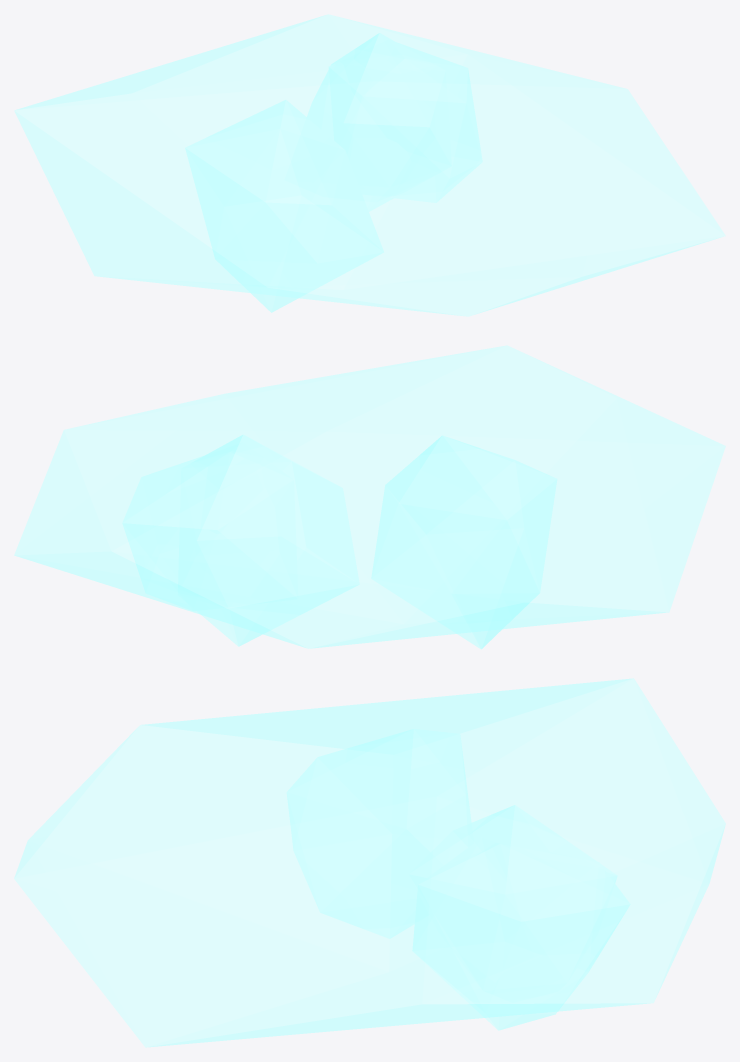
Rendered from GH_Ore_PileSmall.fbx.
3 views of the same model, one above another, from view 1: azimuth 30°, elevation 25°; view 2: azimuth 150°, elevation 25°; view 3: azimuth 270°, elevation 25° (orthographic). The views are drawn at different scales.
Visible parts, largest first — view 1: SM_Ore_PileSmall; view 2: SM_Ore_PileSmall; view 3: SM_Ore_PileSmall.
Boxes of the visible parts, x1,y1,x2,y2 form: SM_Ore_PileSmall: [14, 14, 725, 316]; SM_Ore_PileSmall: [14, 345, 725, 649]; SM_Ore_PileSmall: [14, 678, 725, 1047].
Size of the model in its own units: 0.6015 by 0.2098 by 0.604.
